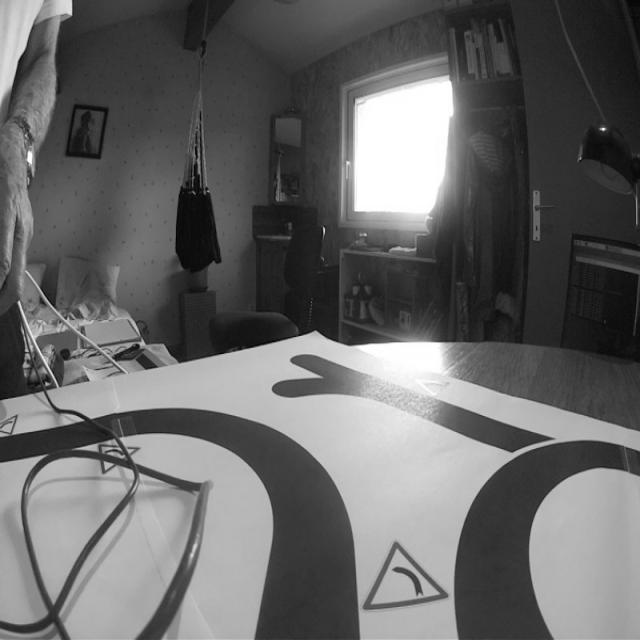laneLeftTurn: (229, 399, 363, 640)
leftTurn: (342, 516, 453, 617)
